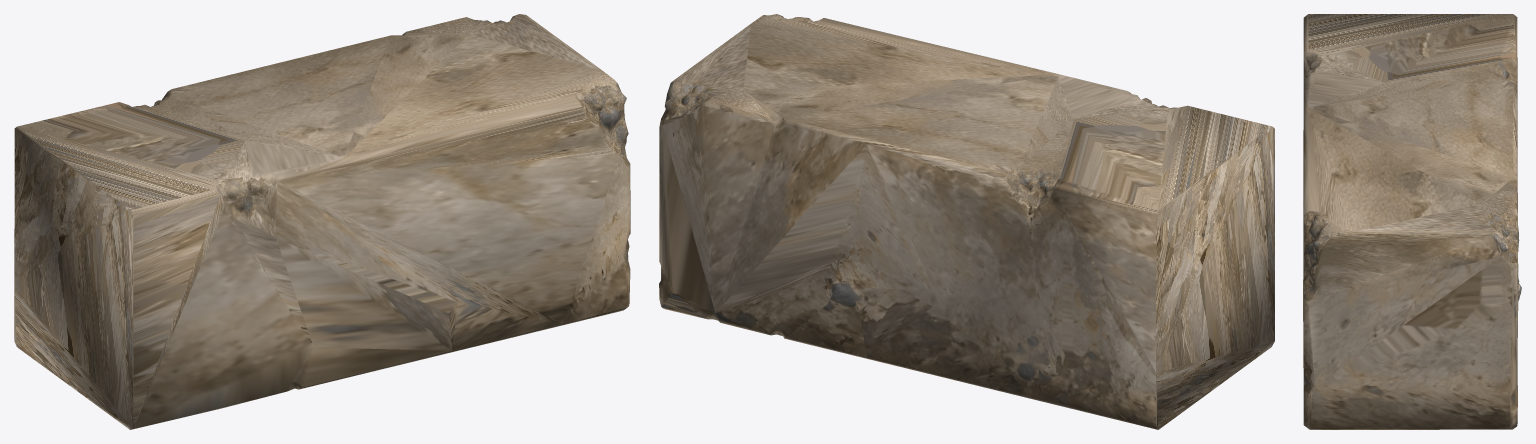
The model's file is shallow-irrigation-bank-end-right.glb.
3 renders of one model, left to right at view 1: azimuth 30°, elevation 25°; view 2: azimuth 150°, elevation 25°; view 3: azimuth 270°, elevation 25°, orthographic. The views are drawn at different scales.
Parts seen in each view (by area): view 1: shallow-irrigation-bank-end-right; view 2: shallow-irrigation-bank-end-right; view 3: shallow-irrigation-bank-end-right.
Boxes of the visible parts, x1,y1,x2,y2 form: shallow-irrigation-bank-end-right: (14, 14, 630, 429); shallow-irrigation-bank-end-right: (659, 14, 1274, 429); shallow-irrigation-bank-end-right: (1303, 14, 1521, 429).
Bounding box in the file's own units: 0.9503 × 0.4005 × 0.3998.
Materials: 1 (1 with a texture image).
